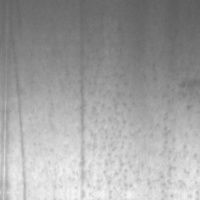pitted_surface: (36, 57, 199, 197)
